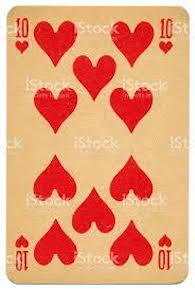TenOfHearts: (5, 4, 191, 285)
